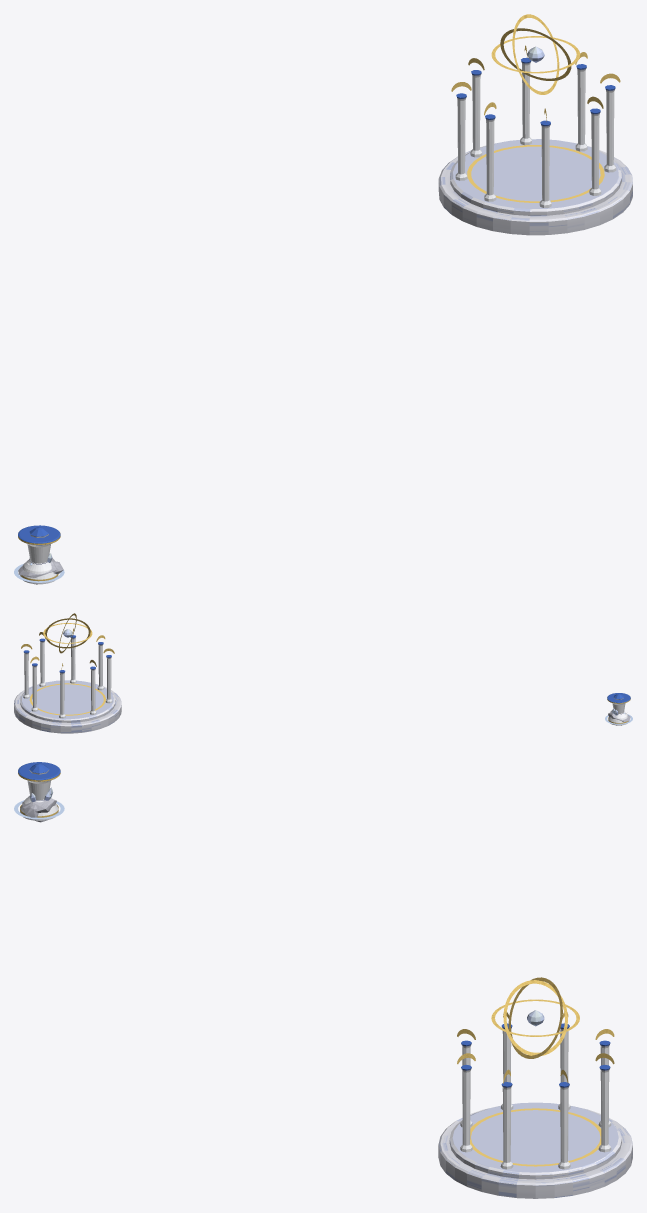
The model's file is MoonlitIsle_Props.fbx.
3 views of the same model, one above another, from view 1: azimuth 30°, elevation 25°; view 2: azimuth 150°, elevation 25°; view 3: azimuth 270°, elevation 25° (orthographic). The views are drawn at different scales.
Visible parts, largest first — view 1: MI_Pavilion, MI_Armillary, MI_EggPedestal; view 2: MI_Pavilion, MI_Armillary, MI_EggPedestal; view 3: MI_Pavilion, MI_Armillary, MI_EggPedestal.
Boxes of the visible parts, left/top/right/bottom form: MI_Pavilion: left=438, top=45, right=632, bottom=235; MI_Armillary: left=491, top=14, right=580, bottom=94; MI_EggPedestal: left=18, top=525, right=60, bottom=584; MI_Pavilion: left=14, top=628, right=121, bottom=733; MI_Armillary: left=43, top=613, right=92, bottom=653; MI_EggPedestal: left=607, top=693, right=630, bottom=725; MI_Pavilion: left=438, top=1012, right=632, bottom=1198; MI_Armillary: left=491, top=977, right=579, bottom=1058; MI_EggPedestal: left=18, top=762, right=60, bottom=820.
Size of the model in its own units: 96.97 by 21.32 by 61.1.
Materials: 1 (1 with a texture image).
